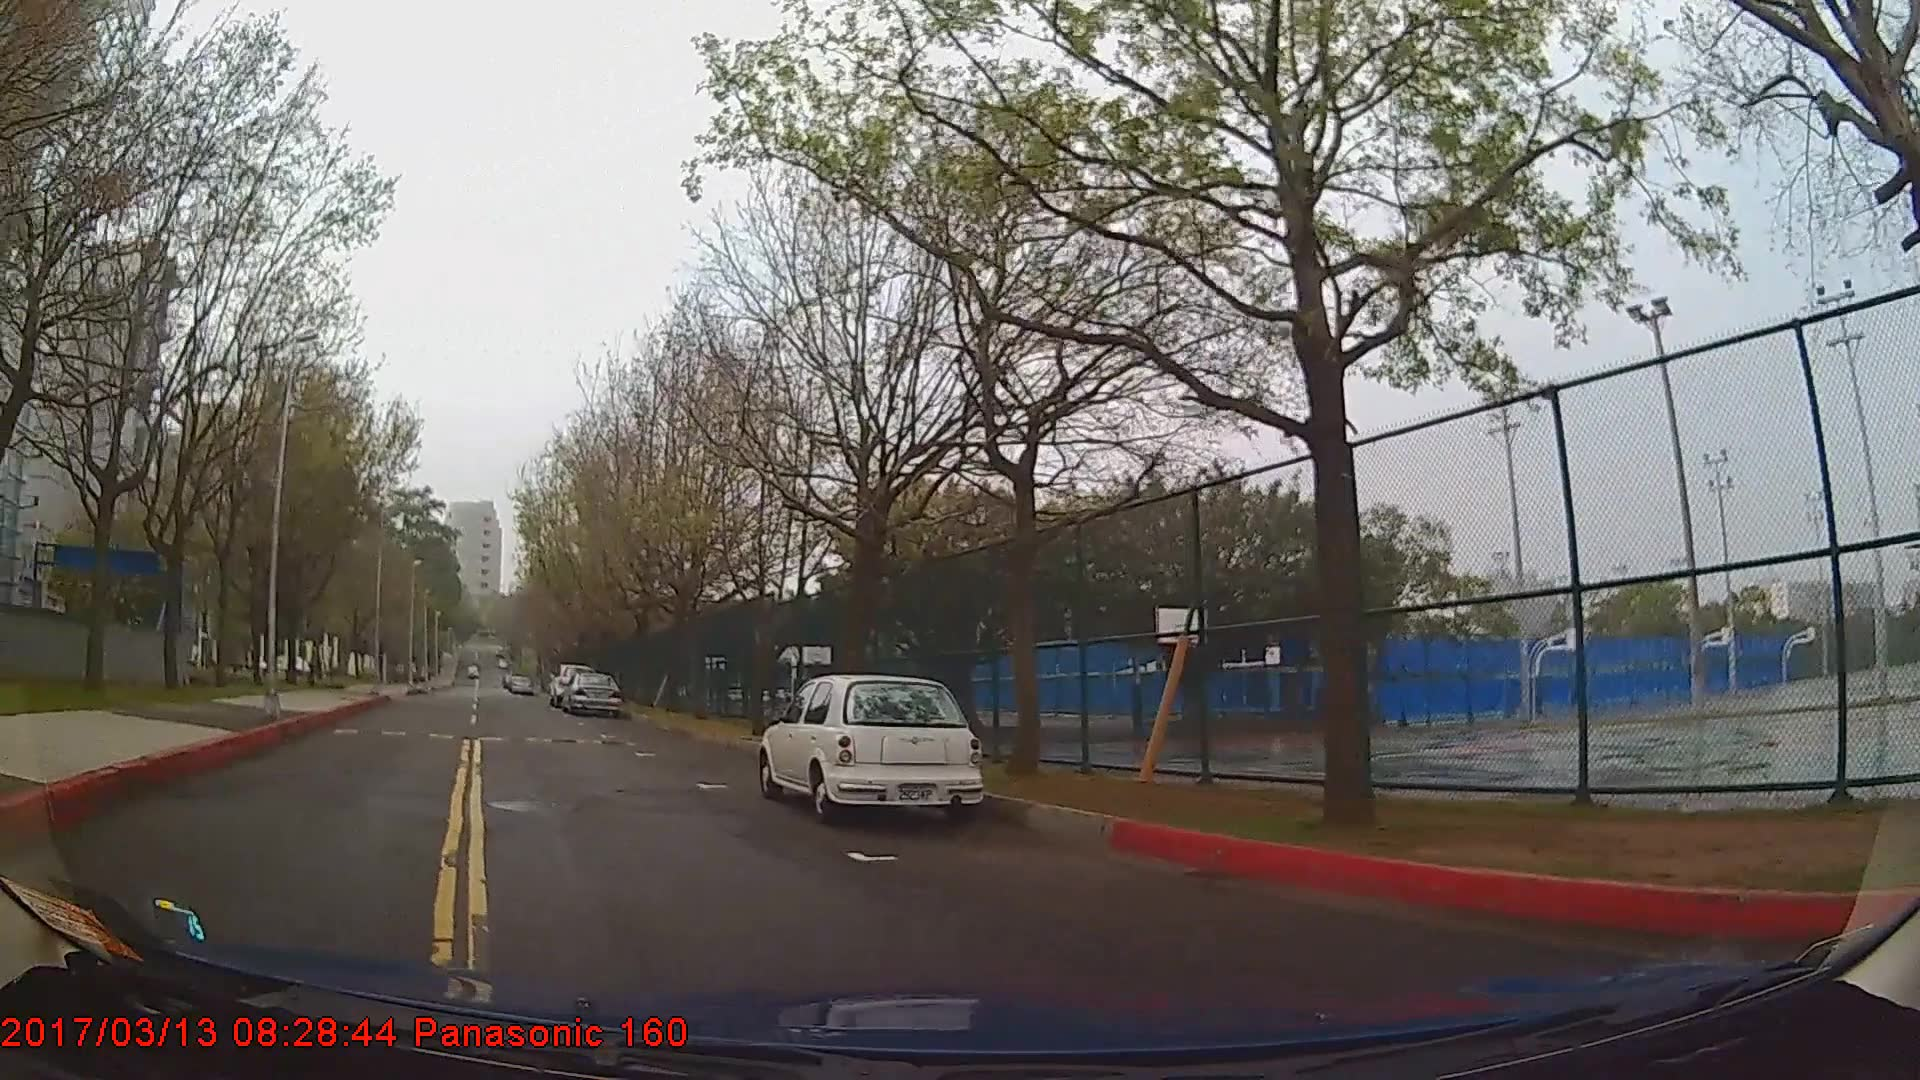vehicle: (756, 673, 984, 822), (563, 669, 621, 713)
